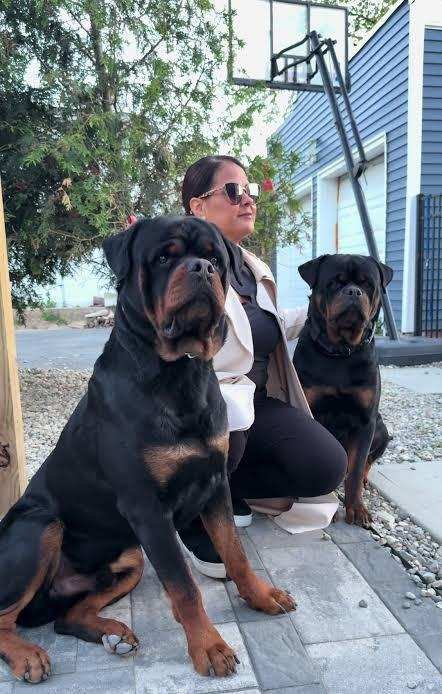adult_dog: (1, 215, 295, 685), (292, 253, 396, 526)
non-dog: (176, 155, 347, 582)
